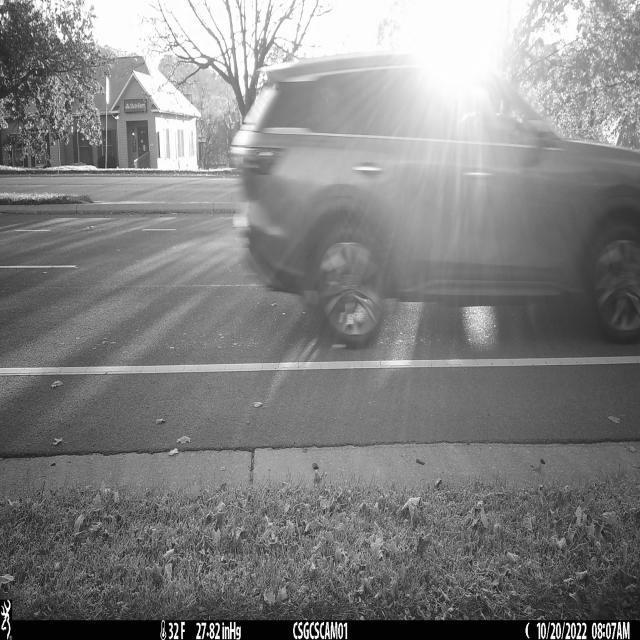SUV: (230, 50, 640, 350)
